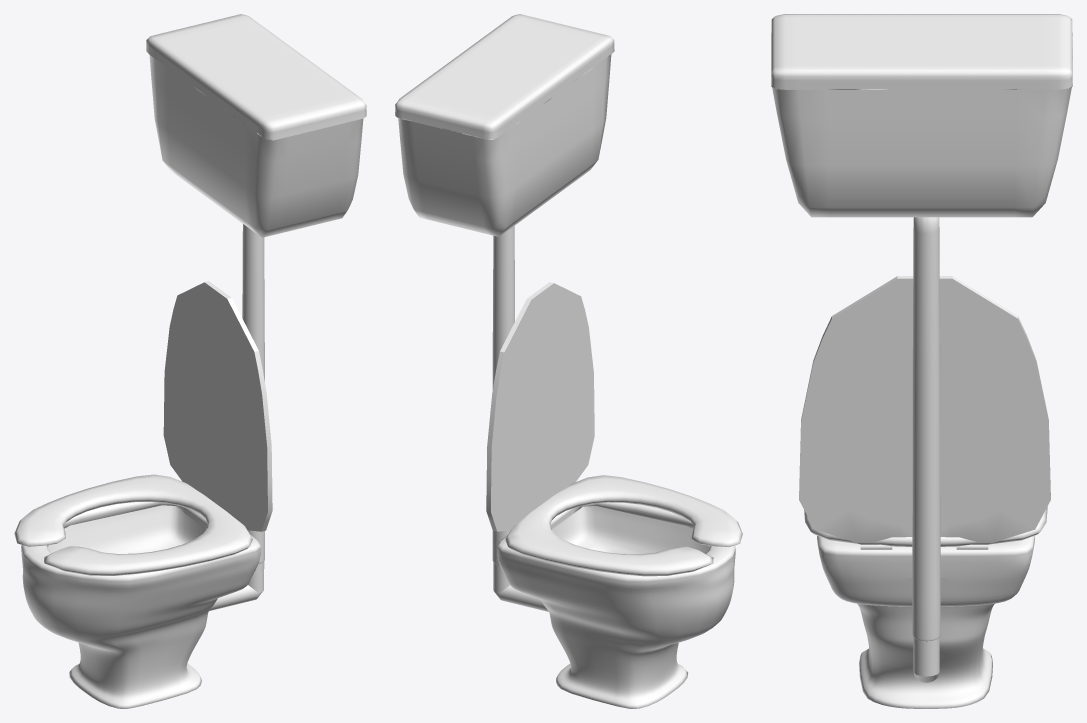
The model's file is toilet.obj.
3 renders of one model, left to right at view 1: azimuth 30°, elevation 25°; view 2: azimuth 150°, elevation 25°; view 3: azimuth 270°, elevation 25°, orthographic. The views are drawn at different scales.
Parts seen in each view (by area): view 1: polySurface9; view 2: polySurface9; view 3: polySurface9.
Boxes of the visible parts, x1,y1,x2,y2 form: polySurface9: (14, 14, 366, 708); polySurface9: (395, 14, 742, 708); polySurface9: (771, 14, 1072, 708).
Bounding box in the file's own units: 3.05 × 6.2 × 2.4.
Materials: 1 (1 with a texture image).
